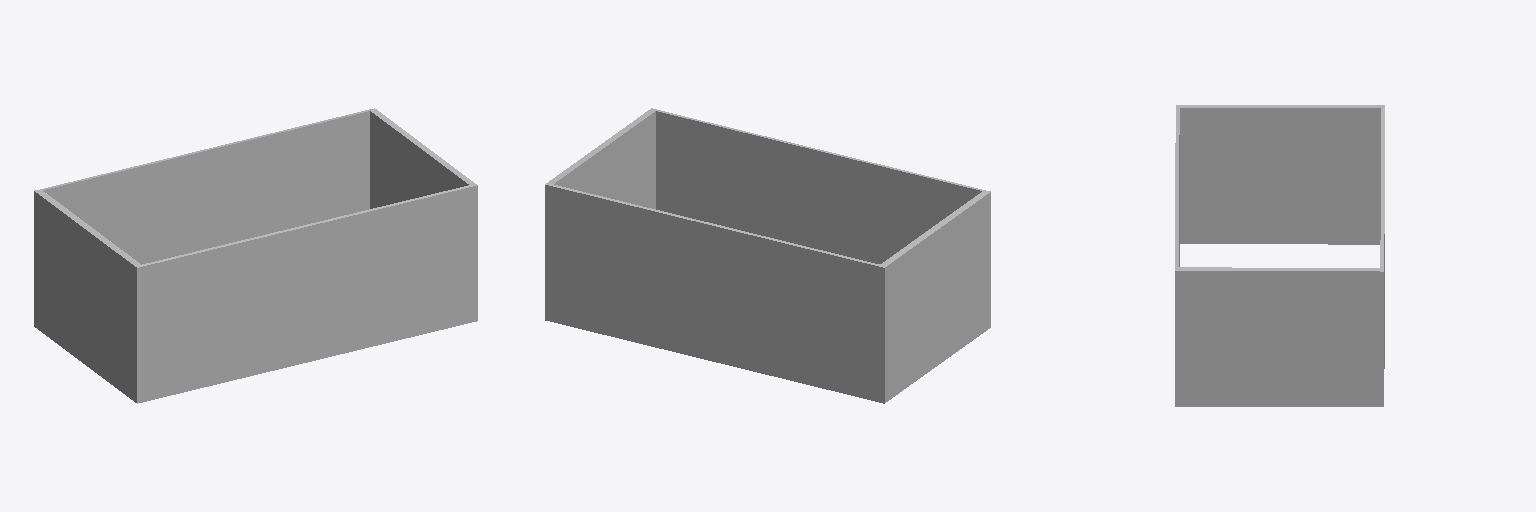
File: stage.obj
The picture shows the model from 3 angles: view 1: azimuth 30°, elevation 25°; view 2: azimuth 150°, elevation 25°; view 3: azimuth 270°, elevation 25°; orthographic projection.
Parts seen in each view (by area): view 1: default; view 2: default; view 3: default.
Part boxes in pixels (x1,y1,x2,y2): default: (34, 108, 477, 403); default: (545, 108, 990, 403); default: (1175, 105, 1384, 406).
Size of the model in its own units: 44.47 by 16.95 by 23.73.